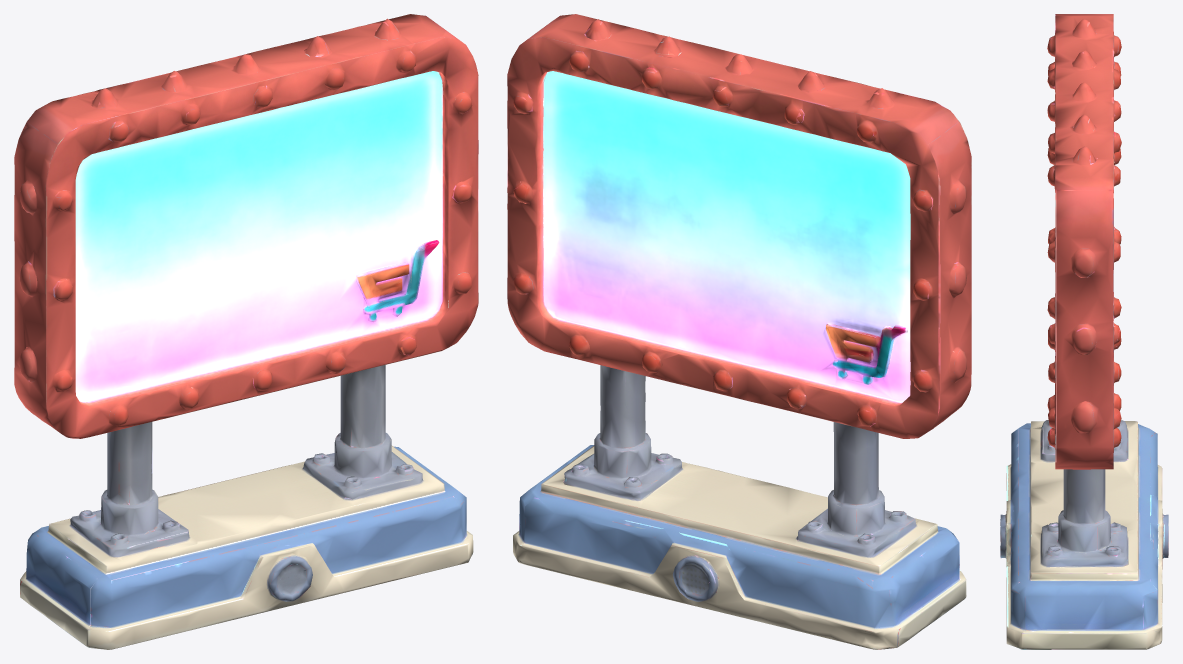
The model's file is outdoor_screen.glb.
The picture shows the model from 3 angles, left to right: view 1: azimuth 30°, elevation 25°; view 2: azimuth 150°, elevation 25°; view 3: azimuth 270°, elevation 25°; orthographic projection. The views are drawn at different scales.
Visible parts, largest first — view 1: Mesh_0; view 2: Mesh_0; view 3: Mesh_0.
Boxes of the visible parts, box(x1,y1,x2,y2) form: Mesh_0: box(14, 14, 478, 649); Mesh_0: box(507, 14, 971, 649); Mesh_0: box(1000, 14, 1168, 649).
Bounding box in the file's own units: 1.72 × 1.91 × 0.6069.
1 material, 1 textured.
